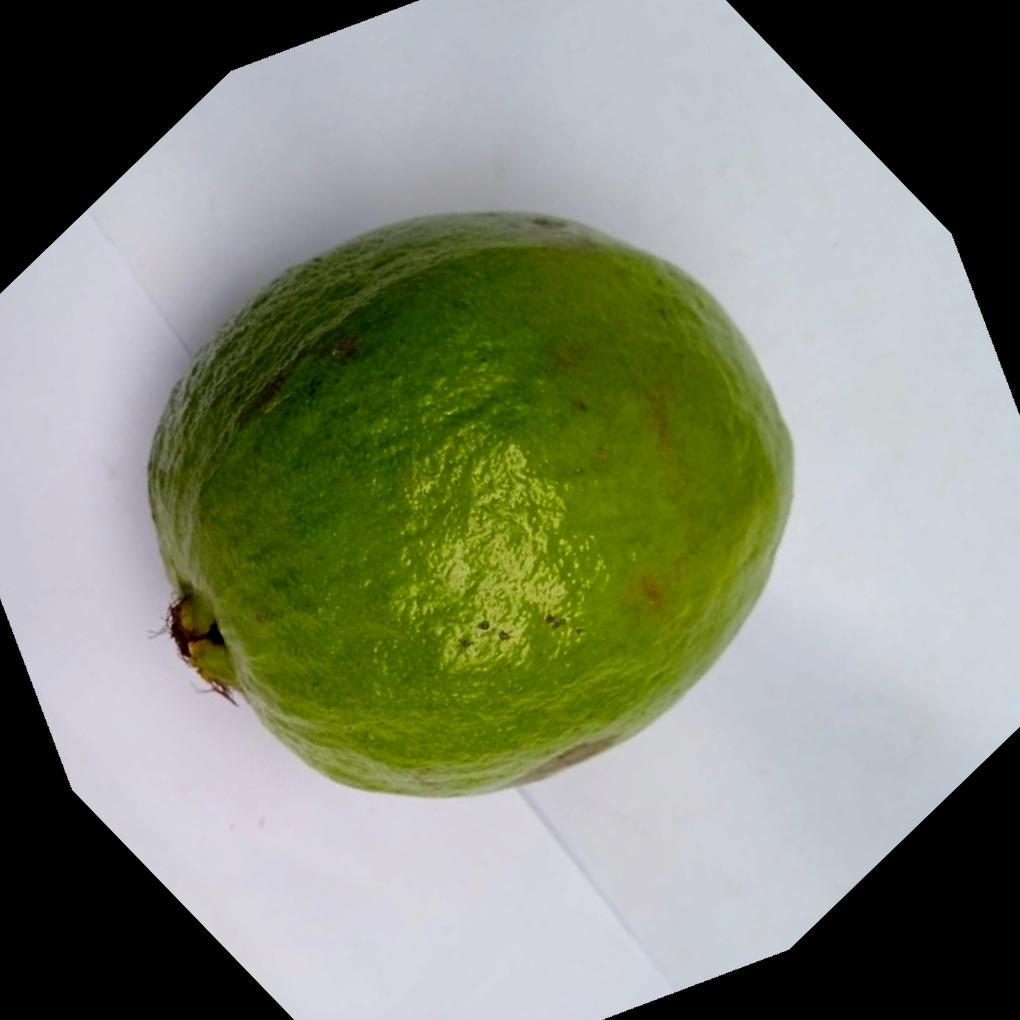FreshGuava: (142, 212, 794, 803)
